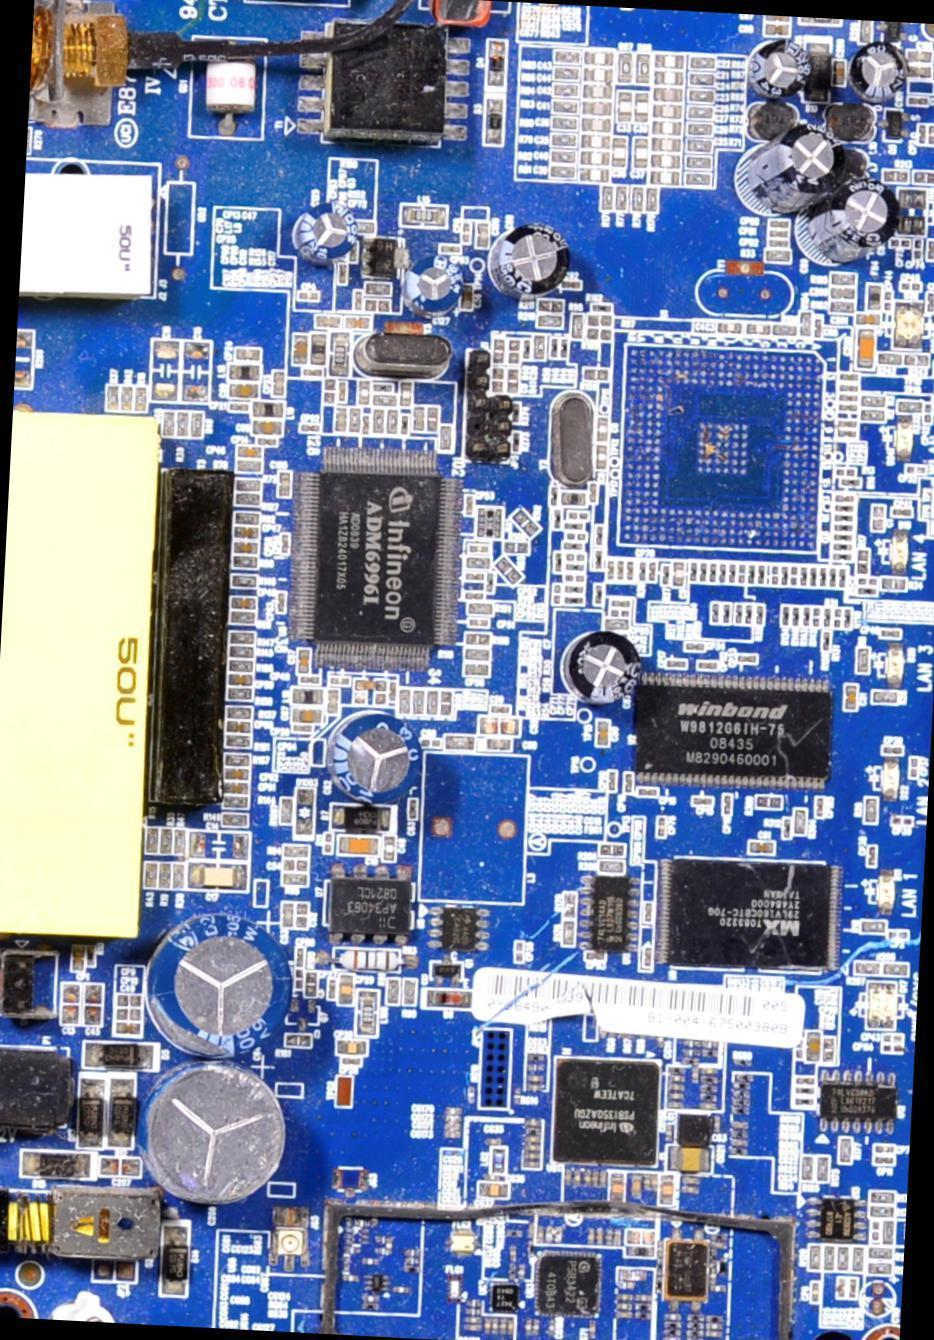Capacitor: (146, 904, 305, 1060), (148, 1061, 291, 1206), (326, 711, 431, 812), (561, 622, 644, 711), (774, 124, 850, 201), (833, 179, 907, 238), (754, 35, 814, 96), (850, 42, 909, 103), (150, 338, 184, 403), (182, 340, 214, 404), (189, 830, 252, 862), (186, 861, 250, 891), (14, 330, 40, 393), (853, 328, 879, 371), (58, 980, 82, 1025), (82, 981, 106, 1025), (337, 833, 381, 857), (908, 302, 927, 351), (98, 1158, 145, 1177), (893, 302, 909, 350), (611, 134, 631, 167), (658, 1174, 677, 1208), (616, 51, 635, 85), (336, 974, 356, 1006), (635, 52, 653, 86), (631, 134, 649, 168), (616, 91, 635, 123), (250, 419, 285, 436), (290, 708, 325, 725), (609, 1171, 628, 1202), (578, 133, 612, 150), (466, 439, 492, 461), (634, 90, 651, 123), (336, 1040, 371, 1056), (577, 148, 613, 163), (469, 411, 489, 438), (805, 1031, 821, 1064), (112, 1021, 145, 1037), (477, 1182, 510, 1198), (353, 678, 388, 693), (577, 167, 611, 182), (478, 715, 501, 737), (648, 153, 684, 167), (493, 412, 513, 437), (113, 1005, 144, 1021), (581, 100, 612, 116), (650, 119, 683, 134), (191, 409, 208, 438), (648, 136, 683, 150), (500, 716, 522, 738), (71, 941, 86, 973), (581, 117, 613, 132), (294, 332, 309, 364), (597, 720, 614, 748), (655, 55, 686, 70), (653, 86, 684, 101), (582, 83, 613, 98), (227, 594, 258, 609), (831, 58, 845, 90), (233, 525, 261, 541), (907, 63, 933, 80), (648, 170, 682, 183), (296, 646, 313, 672), (571, 313, 586, 342), (828, 287, 859, 301), (906, 49, 933, 65), (585, 51, 613, 66), (506, 367, 521, 395), (845, 685, 860, 713), (224, 718, 252, 733), (654, 71, 686, 84), (757, 794, 783, 810), (491, 396, 514, 414), (314, 314, 341, 329), (583, 366, 610, 381), (114, 993, 145, 1006), (583, 68, 614, 81), (652, 104, 683, 117), (222, 780, 253, 793), (228, 384, 261, 396), (508, 337, 522, 365), (532, 334, 547, 360), (225, 673, 255, 686), (749, 840, 775, 855), (763, 23, 790, 37), (471, 350, 492, 368), (490, 366, 504, 393), (471, 391, 489, 412), (163, 411, 177, 438), (383, 835, 397, 862), (232, 540, 261, 553), (465, 602, 494, 615), (236, 446, 264, 459), (472, 371, 491, 390), (347, 316, 371, 331), (221, 769, 252, 780), (358, 379, 371, 405), (597, 416, 610, 442), (855, 313, 880, 326), (275, 590, 287, 616), (625, 1228, 643, 1245), (492, 339, 504, 364), (86, 944, 99, 967), (835, 1277, 848, 1300), (848, 1276, 860, 1299), (596, 446, 608, 469), (766, 237, 791, 248), (874, 1143, 896, 1155), (809, 1281, 821, 1303), (648, 561, 660, 583), (641, 1229, 656, 1246), (515, 940, 526, 963), (693, 796, 716, 807), (26, 126, 34, 155), (925, 289, 933, 318), (768, 227, 791, 237), (723, 793, 733, 816), (441, 1129, 463, 1139), (464, 1323, 486, 1333), (769, 217, 791, 227), (617, 558, 626, 582), (838, 383, 859, 393), (498, 1317, 509, 1336), (626, 560, 635, 583), (797, 1074, 814, 1086), (662, 1312, 684, 1321), (608, 557, 617, 579), (764, 15, 792, 22), (507, 1317, 517, 1336), (570, 511, 589, 521), (463, 1323, 484, 1332), (700, 1067, 720, 1076), (840, 373, 860, 382), (547, 1319, 556, 1338), (490, 1317, 500, 1334), (698, 1101, 719, 1109), (667, 1091, 685, 1100), (443, 1121, 463, 1129), (704, 1330, 724, 1338), (667, 1083, 686, 1091), (667, 1100, 686, 1108), (730, 1120, 749, 1128), (729, 1139, 748, 1147), (705, 1322, 724, 1330), (484, 1316, 491, 1337), (634, 1294, 652, 1302), (616, 1302, 634, 1310), (589, 1320, 597, 1338), (667, 1075, 686, 1082), (445, 1106, 464, 1113), (444, 1114, 463, 1121), (615, 1294, 633, 1301), (616, 1311, 634, 1318), (661, 1335, 683, 1339)
IC: (292, 458, 465, 672), (636, 674, 840, 792), (659, 851, 839, 967), (555, 1057, 665, 1163), (572, 869, 652, 958), (820, 1069, 903, 1135), (329, 877, 412, 938), (534, 1249, 605, 1316), (797, 1194, 863, 1243), (442, 904, 479, 950), (38, 1151, 82, 1181), (77, 1096, 106, 1139), (165, 1245, 190, 1281), (490, 1282, 518, 1311), (362, 1273, 393, 1290), (436, 964, 464, 978), (118, 1262, 136, 1282)
Resistor: (898, 188, 928, 234), (475, 506, 505, 541), (329, 332, 349, 377), (292, 685, 326, 706), (310, 331, 329, 368), (228, 362, 264, 380), (560, 489, 589, 507), (222, 732, 254, 748), (222, 752, 252, 769), (233, 345, 264, 361), (224, 685, 255, 701), (220, 812, 251, 828), (276, 469, 293, 498), (829, 271, 861, 286), (105, 383, 121, 413), (229, 572, 259, 588), (857, 20, 875, 46), (796, 309, 811, 340), (135, 384, 151, 413), (233, 492, 262, 508), (233, 510, 262, 526), (228, 609, 257, 625), (143, 861, 159, 890), (548, 165, 578, 180), (227, 657, 257, 672), (764, 247, 792, 263), (866, 282, 882, 310), (272, 370, 288, 398), (234, 477, 263, 492), (552, 49, 583, 63), (256, 404, 287, 418), (177, 412, 193, 439), (172, 861, 188, 888), (799, 17, 842, 27), (552, 66, 582, 80), (551, 99, 579, 114), (686, 122, 714, 137), (685, 138, 713, 153), (748, 322, 776, 337), (716, 320, 744, 335), (222, 794, 250, 809), (802, 1155, 816, 1184), (551, 83, 580, 97), (120, 384, 134, 413), (227, 630, 256, 644), (159, 861, 173, 890), (236, 459, 263, 474), (688, 72, 716, 86), (685, 156, 713, 170), (685, 173, 713, 187), (227, 643, 255, 657), (160, 829, 174, 857), (867, 1245, 893, 1260), (824, 1244, 839, 1270), (851, 1247, 866, 1273), (549, 116, 579, 129), (549, 132, 579, 145), (855, 962, 882, 976), (858, 920, 887, 933), (687, 89, 716, 102), (231, 556, 260, 569), (225, 706, 254, 719), (690, 55, 716, 69), (865, 799, 879, 825), (829, 302, 859, 314), (866, 1262, 893, 1275), (686, 105, 713, 118), (539, 298, 564, 312), (795, 809, 809, 834), (549, 149, 578, 161), (829, 551, 858, 563), (816, 1157, 831, 1180), (881, 1219, 895, 1243), (828, 541, 858, 552), (840, 1138, 852, 1165), (175, 829, 187, 856), (837, 1247, 851, 1270), (810, 1246, 822, 1271), (913, 169, 933, 184), (774, 324, 799, 336), (837, 563, 849, 588), (870, 1190, 893, 1203), (756, 561, 767, 588), (149, 827, 160, 854), (830, 532, 859, 542), (884, 963, 908, 975), (870, 1205, 894, 1217), (228, 402, 252, 414), (299, 422, 323, 434), (882, 578, 906, 590), (832, 523, 860, 533), (818, 564, 829, 589), (754, 604, 767, 625), (536, 315, 563, 325), (794, 1095, 816, 1107), (807, 564, 818, 588), (708, 561, 719, 585), (743, 603, 755, 625), (728, 561, 738, 587), (800, 604, 811, 627), (833, 503, 858, 513), (747, 561, 757, 586), (907, 97, 929, 108), (718, 562, 728, 586), (721, 602, 733, 622), (829, 564, 838, 590), (839, 391, 860, 402), (832, 514, 857, 523), (281, 534, 292, 554), (688, 560, 698, 582), (822, 607, 833, 627), (790, 607, 800, 629), (781, 562, 790, 586), (698, 560, 707, 584), (783, 604, 792, 628), (257, 437, 278, 447), (638, 560, 648, 581), (733, 604, 744, 623), (736, 1072, 756, 1082), (801, 564, 809, 589), (730, 1106, 751, 1115), (730, 1130, 751, 1139), (711, 601, 720, 622), (925, 237, 933, 260), (561, 338, 570, 358), (844, 608, 853, 628), (823, 631, 832, 651), (524, 339, 532, 361), (700, 1076, 719, 1085), (699, 1084, 718, 1093), (732, 1089, 751, 1098), (687, 1313, 706, 1322), (464, 1316, 483, 1325), (686, 1329, 705, 1338), (524, 1317, 533, 1336), (730, 1147, 751, 1155), (550, 337, 558, 358), (564, 523, 585, 531), (814, 607, 822, 628), (634, 1311, 652, 1320), (533, 1319, 542, 1337), (813, 318, 822, 336), (731, 1098, 751, 1106), (885, 170, 898, 182), (564, 542, 586, 549), (732, 1081, 751, 1089), (663, 1321, 682, 1329), (663, 1329, 682, 1337), (839, 404, 858, 412), (553, 510, 561, 529), (668, 1066, 686, 1074), (706, 1315, 724, 1323), (698, 1094, 718, 1101), (635, 1303, 652, 1311), (364, 1303, 380, 1311), (796, 1088, 814, 1095), (687, 1322, 705, 1329), (858, 588, 874, 595), (903, 239, 912, 249), (890, 238, 898, 248), (915, 249, 922, 259), (914, 239, 922, 247)
